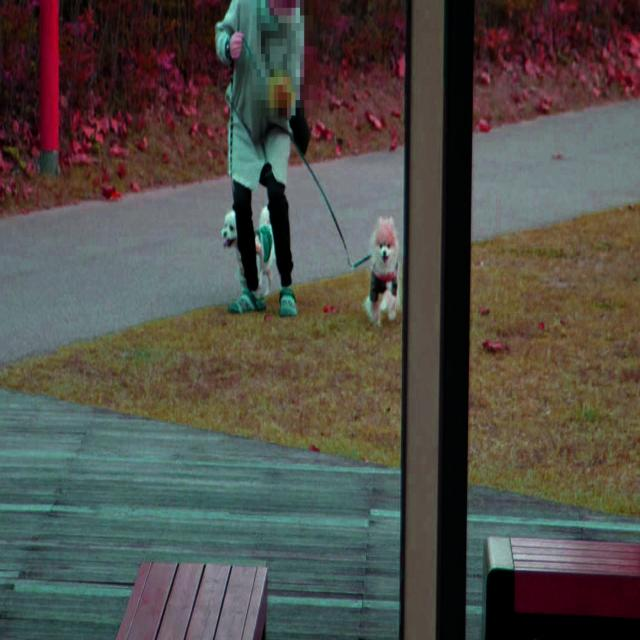Leashed_Dog: (220, 35, 401, 324), (221, 36, 275, 294)
